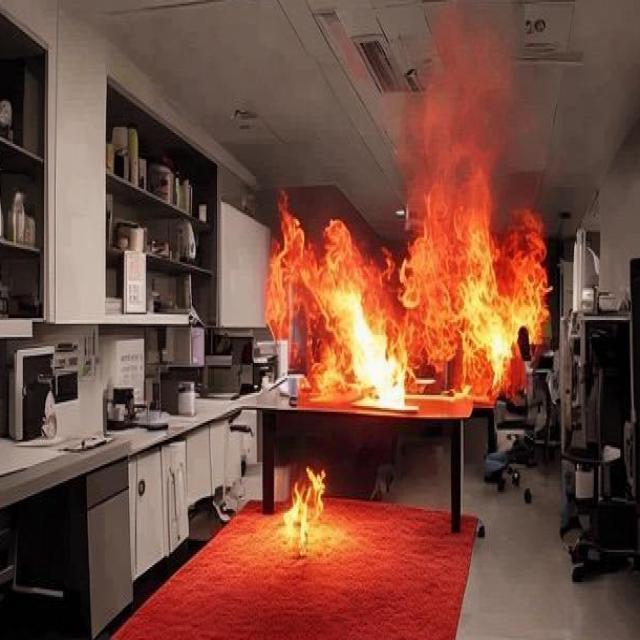smoke: (266, 127, 544, 419), (274, 444, 332, 560)
